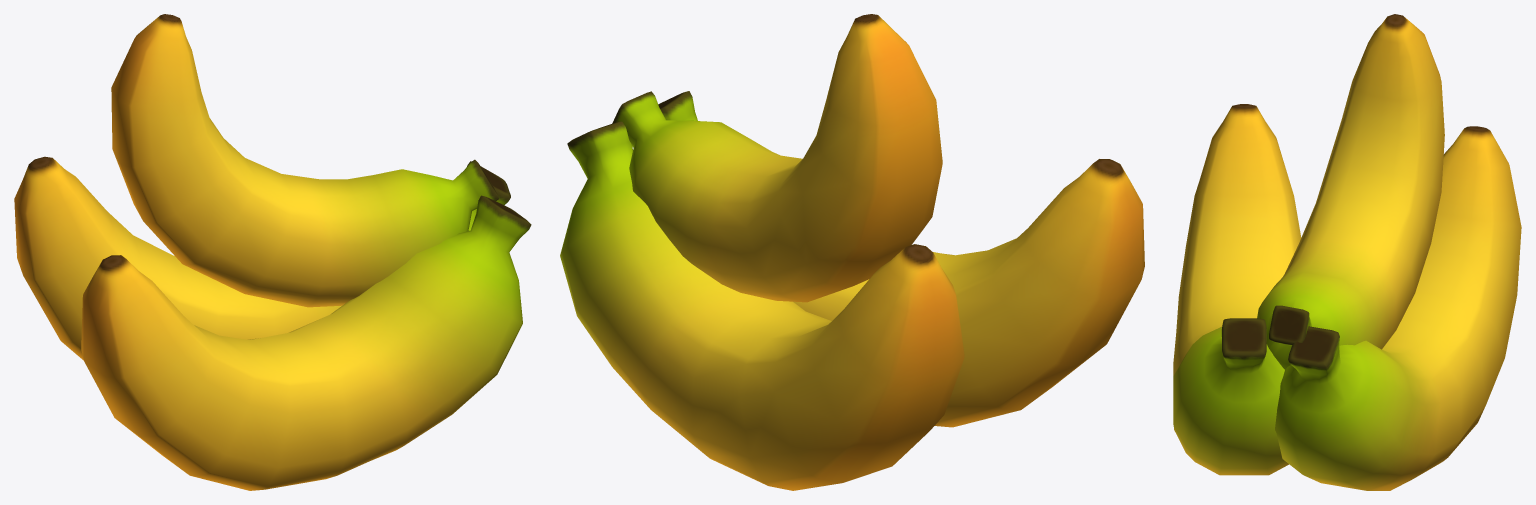
The model's file is banana.fbx.
The picture shows the model from 3 angles, left to right: view 1: azimuth 30°, elevation 25°; view 2: azimuth 150°, elevation 25°; view 3: azimuth 270°, elevation 25°; orthographic projection. The views are drawn at different scales.
Parts seen in each view (by area): view 1: Banana_Banana_0.002; view 2: Banana_Banana_0.002; view 3: Banana_Banana_0.002.
Part boxes in pixels (<box>): Banana_Banana_0.002: <box>14,14,531,490</box>; Banana_Banana_0.002: <box>560,14,1144,490</box>; Banana_Banana_0.002: <box>1173,14,1521,490</box>.
Size of the model in its own units: 18.35 by 15.85 by 12.44.
Materials: 1 (1 with a texture image).
